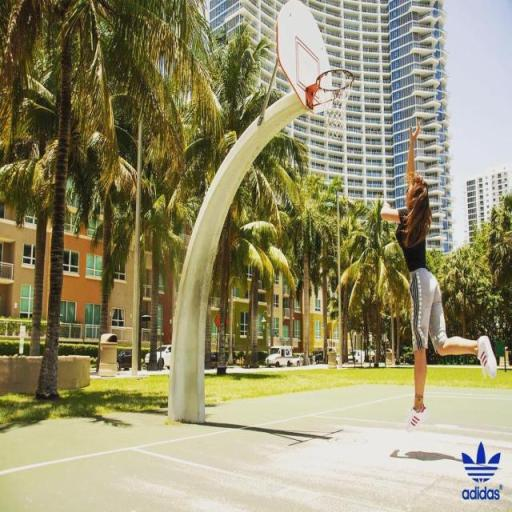Adidas: (459, 440, 503, 502)
